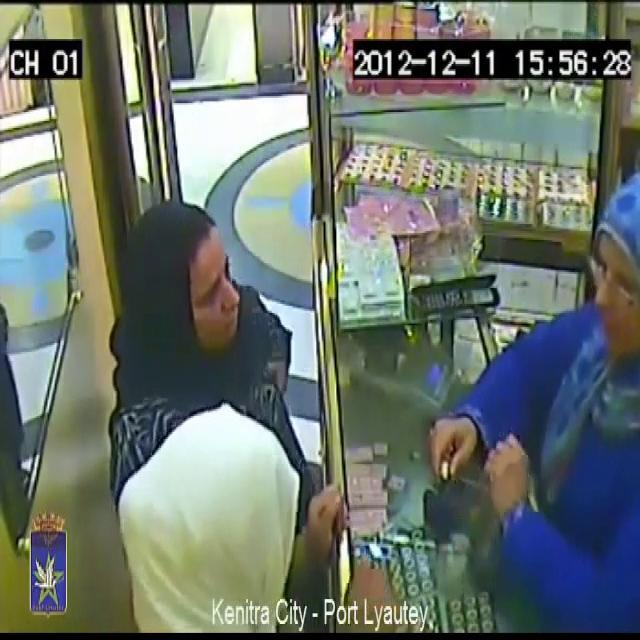Product: (431, 439, 457, 494)
normal: (105, 364, 323, 640), (136, 168, 253, 386)
shoplifting: (382, 144, 640, 627)
